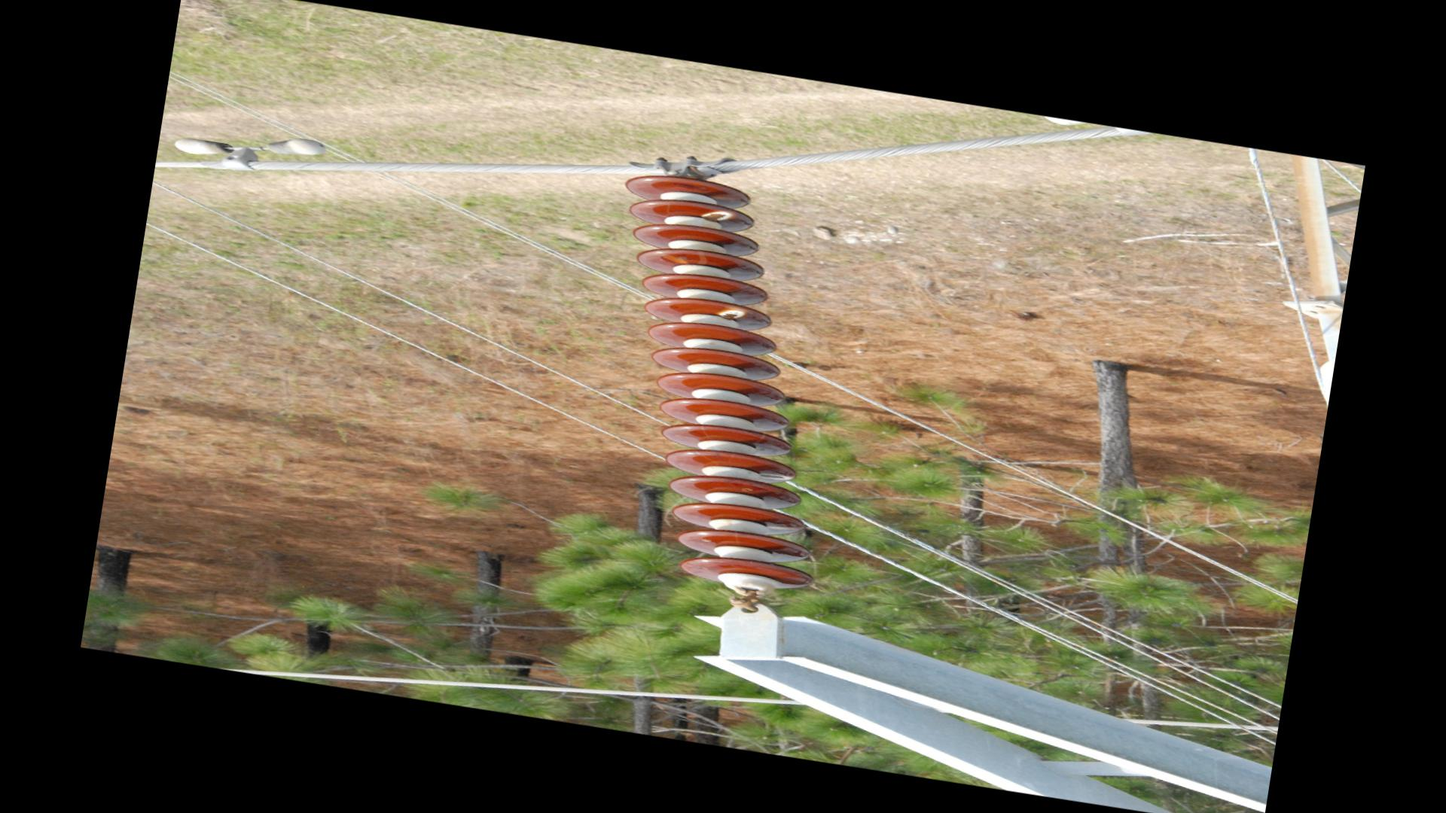damper: (169, 115, 331, 188)
